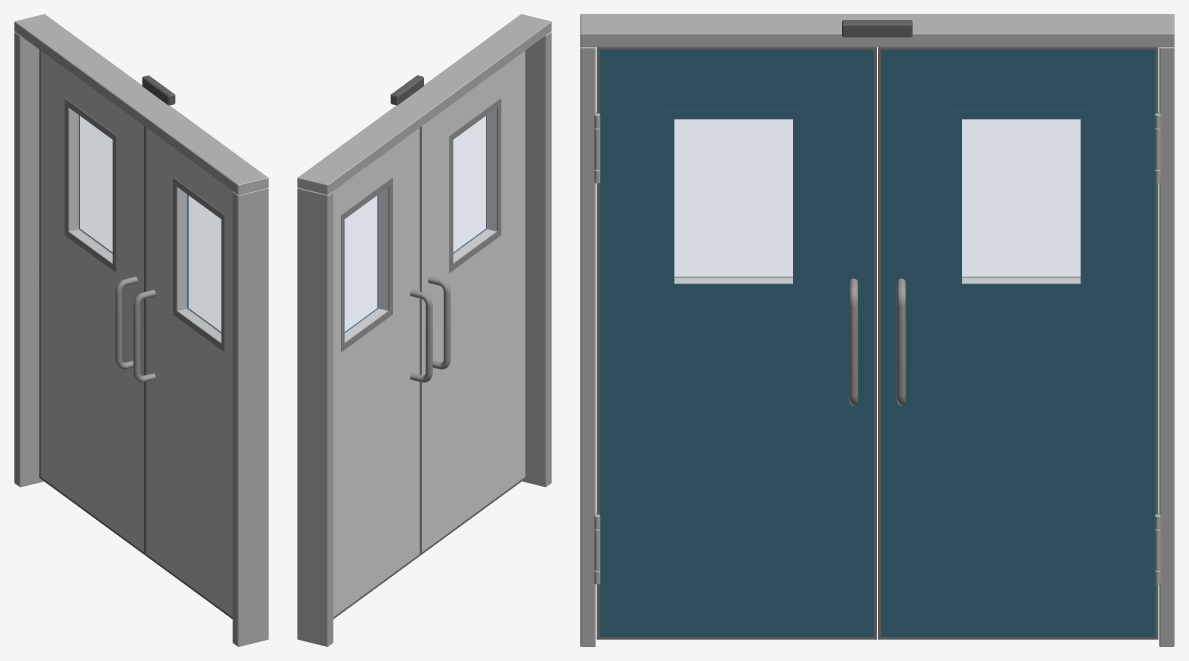
Rendered from doubleDoors.fbx.
The picture shows the model from 3 angles, left to right: view 1: azimuth 30°, elevation 25°; view 2: azimuth 150°, elevation 25°; view 3: azimuth 270°, elevation 25°; orthographic projection. The views are drawn at different scales.
Visible parts, largest first — view 1: DoubleDoor.002, DoubleDoor.001, DoubleDoor; view 2: DoubleDoor.001, DoubleDoor.002, DoubleDoor; view 3: DoubleDoor.001, DoubleDoor.002, DoubleDoor.
Part boxes in pixels (x1,y1,x2,y2): DoubleDoor.002: (39,50,145,554); DoubleDoor.001: (133,127,232,618); DoubleDoor: (14,14,268,646); DoubleDoor.001: (420,50,526,554); DoubleDoor.002: (333,127,432,618); DoubleDoor: (297,14,551,646); DoubleDoor.001: (596,47,876,639); DoubleDoor.002: (878,47,1158,639); DoubleDoor: (580,14,1174,646).
Size of the model in its own units: 26.06 by 226 by 194.
